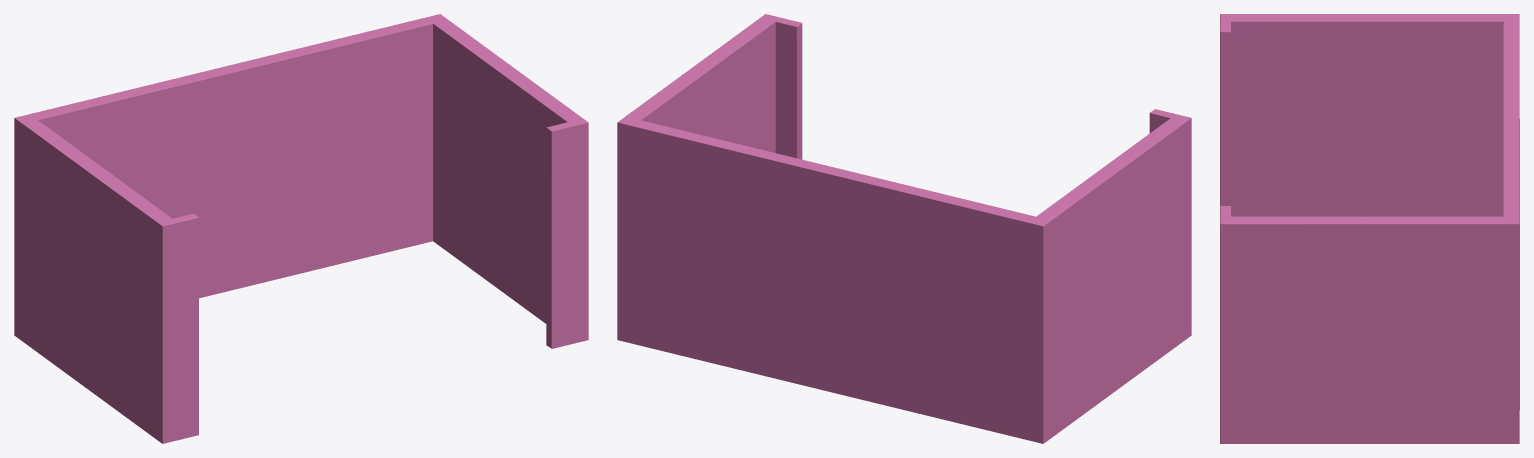
The model's file is S_OuterWall.fbx.
3 renders of one model, left to right at view 1: azimuth 30°, elevation 25°; view 2: azimuth 150°, elevation 25°; view 3: azimuth 270°, elevation 25°, orthographic.
Visible parts, largest first — view 1: OuterWall; view 2: OuterWall; view 3: OuterWall.
Boxes of the visible parts, <box> form: OuterWall: <box>14,14,588,443</box>; OuterWall: <box>617,14,1191,443</box>; OuterWall: <box>1220,14,1519,443</box>.
Bounding box in the file's own units: 1618 × 790 × 976.
